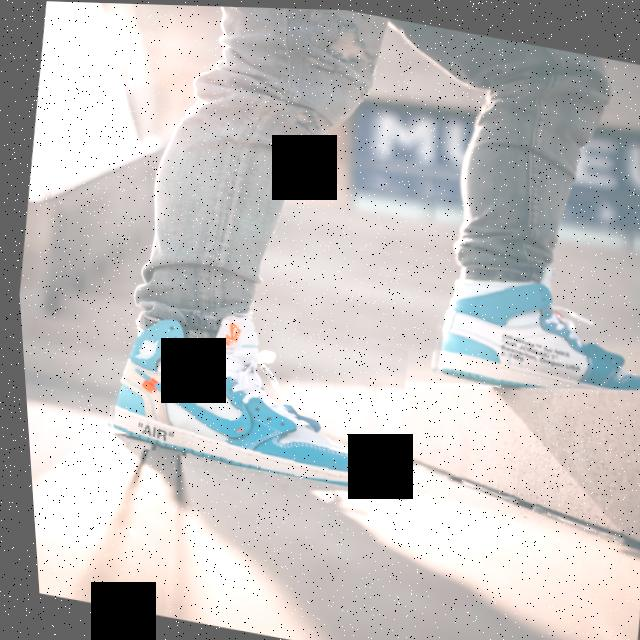shoe: (88, 287, 413, 494), (413, 239, 640, 414)
